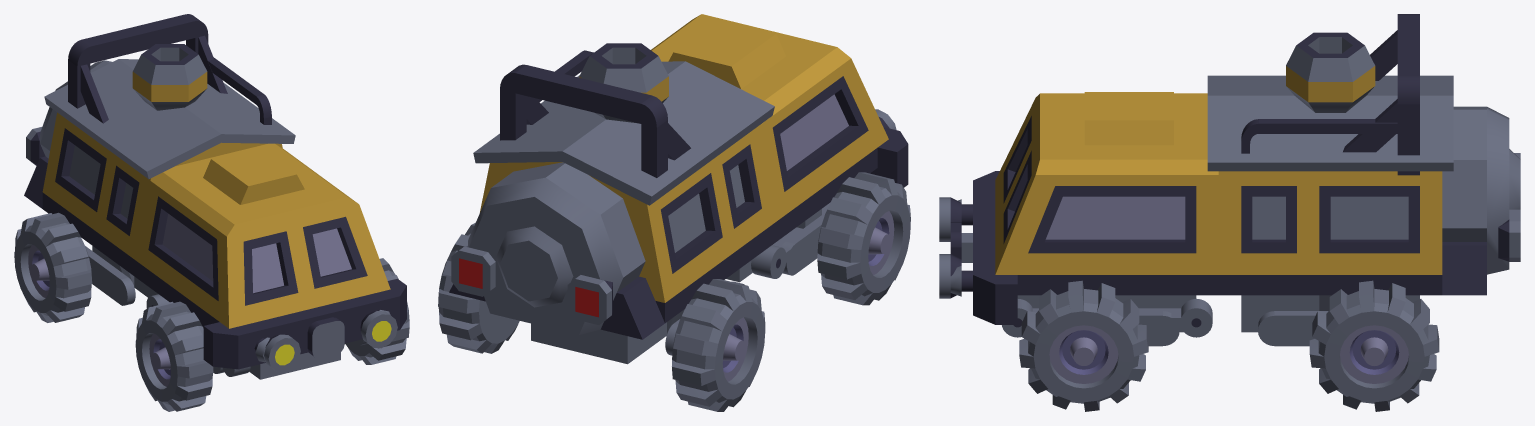
File: rover.fbx
The picture shows the model from 3 angles, left to right: view 1: azimuth 30°, elevation 25°; view 2: azimuth 150°, elevation 25°; view 3: azimuth 270°, elevation 25°; orthographic projection. The views are drawn at different scales.
Visible parts, largest first — view 1: diesel_cabin_front, diesel_cabin_roof, wheel_ridges (×3), coupling, detail_rollbar, bogie_beam (×2), chimney_large, detail_light (×2), steam_engine_front, detail_fence_side, detail_light_square, bogie_frame_connection; view 2: diesel_cabin_roof, wheel_ridges (×3), steam_engine_front, diesel_cabin_front, bogie_beam (×2), detail_rollbar, detail_light_square (×2), chimney_large, bogie_frame_connection, coupling, detail_fence_side; view 3: diesel_cabin_roof, diesel_cabin_front, wheel_ridges (×2), bogie_beam (×2), steam_engine_front, coupling, chimney_large, detail_rollbar, detail_fence_side, bogie_frame_connection, detail_light (×2), detail_light_square.
Boxes of the visible parts, left/top/right/bottom form: diesel_cabin_front: left=136, top=143, right=390, bottom=328; diesel_cabin_roof: left=42, top=59, right=295, bottom=260; wheel_ridges (×3): left=14, top=212, right=409, bottom=411; coupling: left=203, top=278, right=406, bottom=369; detail_rollbar: left=68, top=14, right=227, bottom=123; bogie_beam (×2): left=42, top=192, right=340, bottom=379; chimney_large: left=132, top=44, right=207, bottom=110; detail_light (×2): left=264, top=311, right=397, bottom=371; steam_engine_front: left=24, top=60, right=111, bottom=208; detail_fence_side: left=208, top=57, right=271, bottom=124; detail_light_square: left=26, top=127, right=45, bottom=165; bogie_frame_connection: left=146, top=294, right=367, bottom=376; diesel_cabin_roof: left=473, top=61, right=776, bottom=302; wheel_ridges (×3): left=438, top=172, right=910, bottom=411; steam_engine_front: left=449, top=162, right=664, bottom=339; diesel_cabin_front: left=651, top=14, right=888, bottom=220; bogie_beam (×2): left=531, top=148, right=877, bottom=364; detail_rollbar: left=500, top=64, right=690, bottom=177; detail_light_square (×2): left=451, top=246, right=612, bottom=324; chimney_large: left=579, top=43, right=668, bottom=122; bogie_frame_connection: left=751, top=202, right=830, bottom=278; coupling: left=870, top=127, right=908, bottom=187; detail_fence_side: left=501, top=50, right=593, bottom=121; diesel_cabin_roof: left=1207, top=75, right=1453, bottom=274; diesel_cabin_front: left=995, top=92, right=1218, bottom=274; wheel_ridges (×2): left=1019, top=280, right=1439, bottom=411; bogie_beam (×2): left=1017, top=275, right=1442, bottom=346; steam_engine_front: left=1442, top=106, right=1520, bottom=295; coupling: left=950, top=171, right=1017, bottom=324; chimney_large: left=1286, top=32, right=1375, bottom=112; detail_rollbar: left=1343, top=14, right=1419, bottom=175; detail_fence_side: left=1241, top=119, right=1397, bottom=153; bogie_frame_connection: left=1002, top=295, right=1212, bottom=337; detail_light (×2): left=939, top=197, right=961, bottom=298; detail_light_square: left=1498, top=209, right=1520, bottom=261.
Size of the model in its own units: 14.33 by 14.93 by 26.
